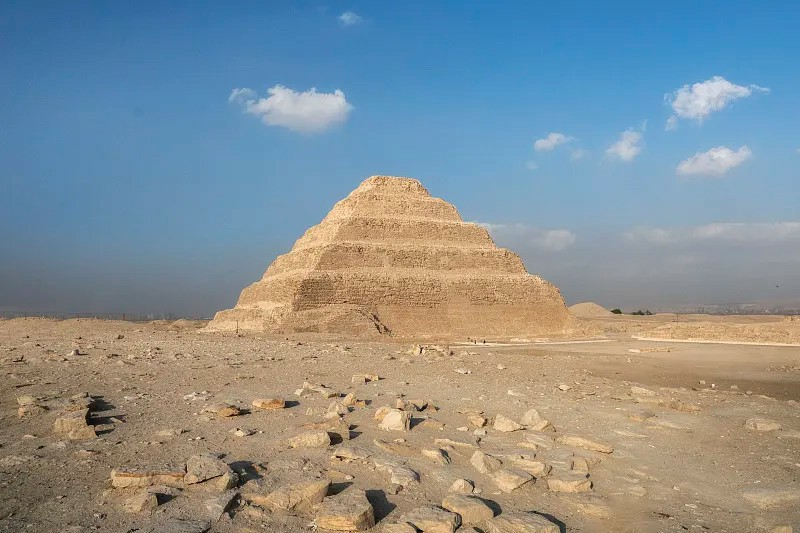Pyramid: (198, 174, 601, 336)
